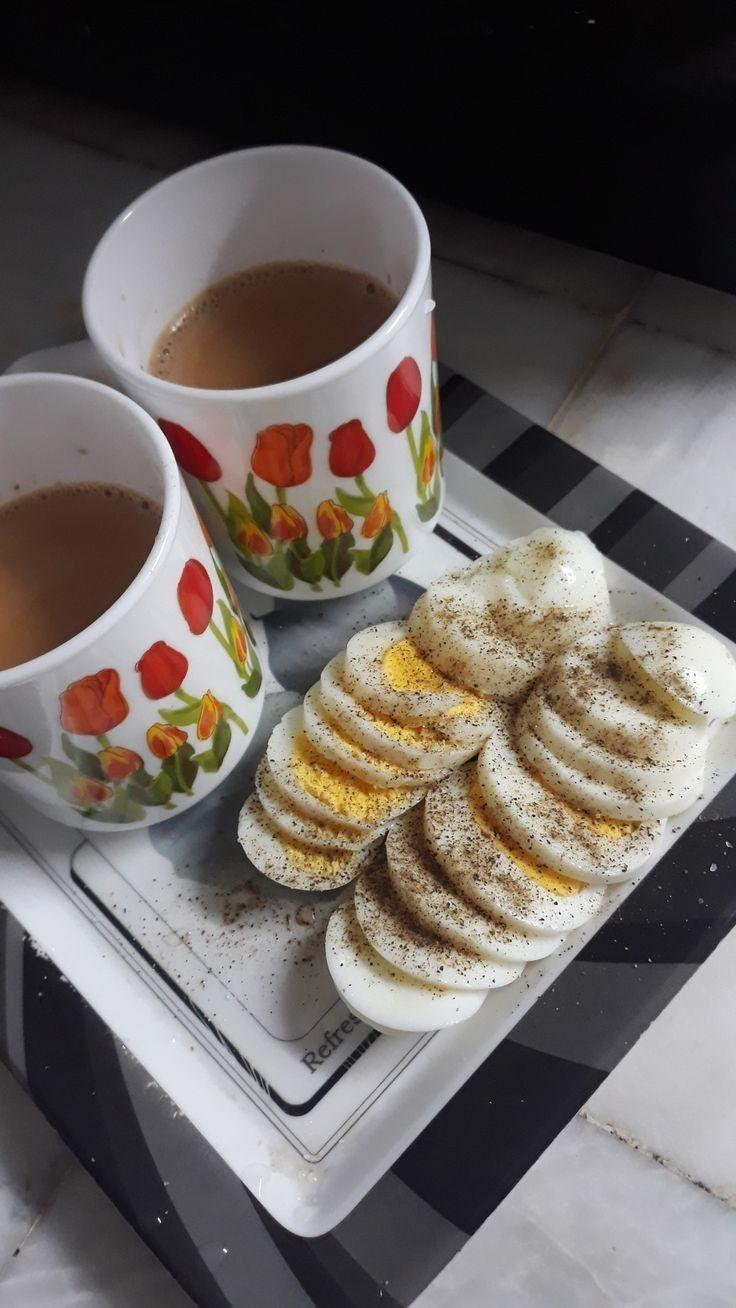eggs: (247, 581, 667, 974)
